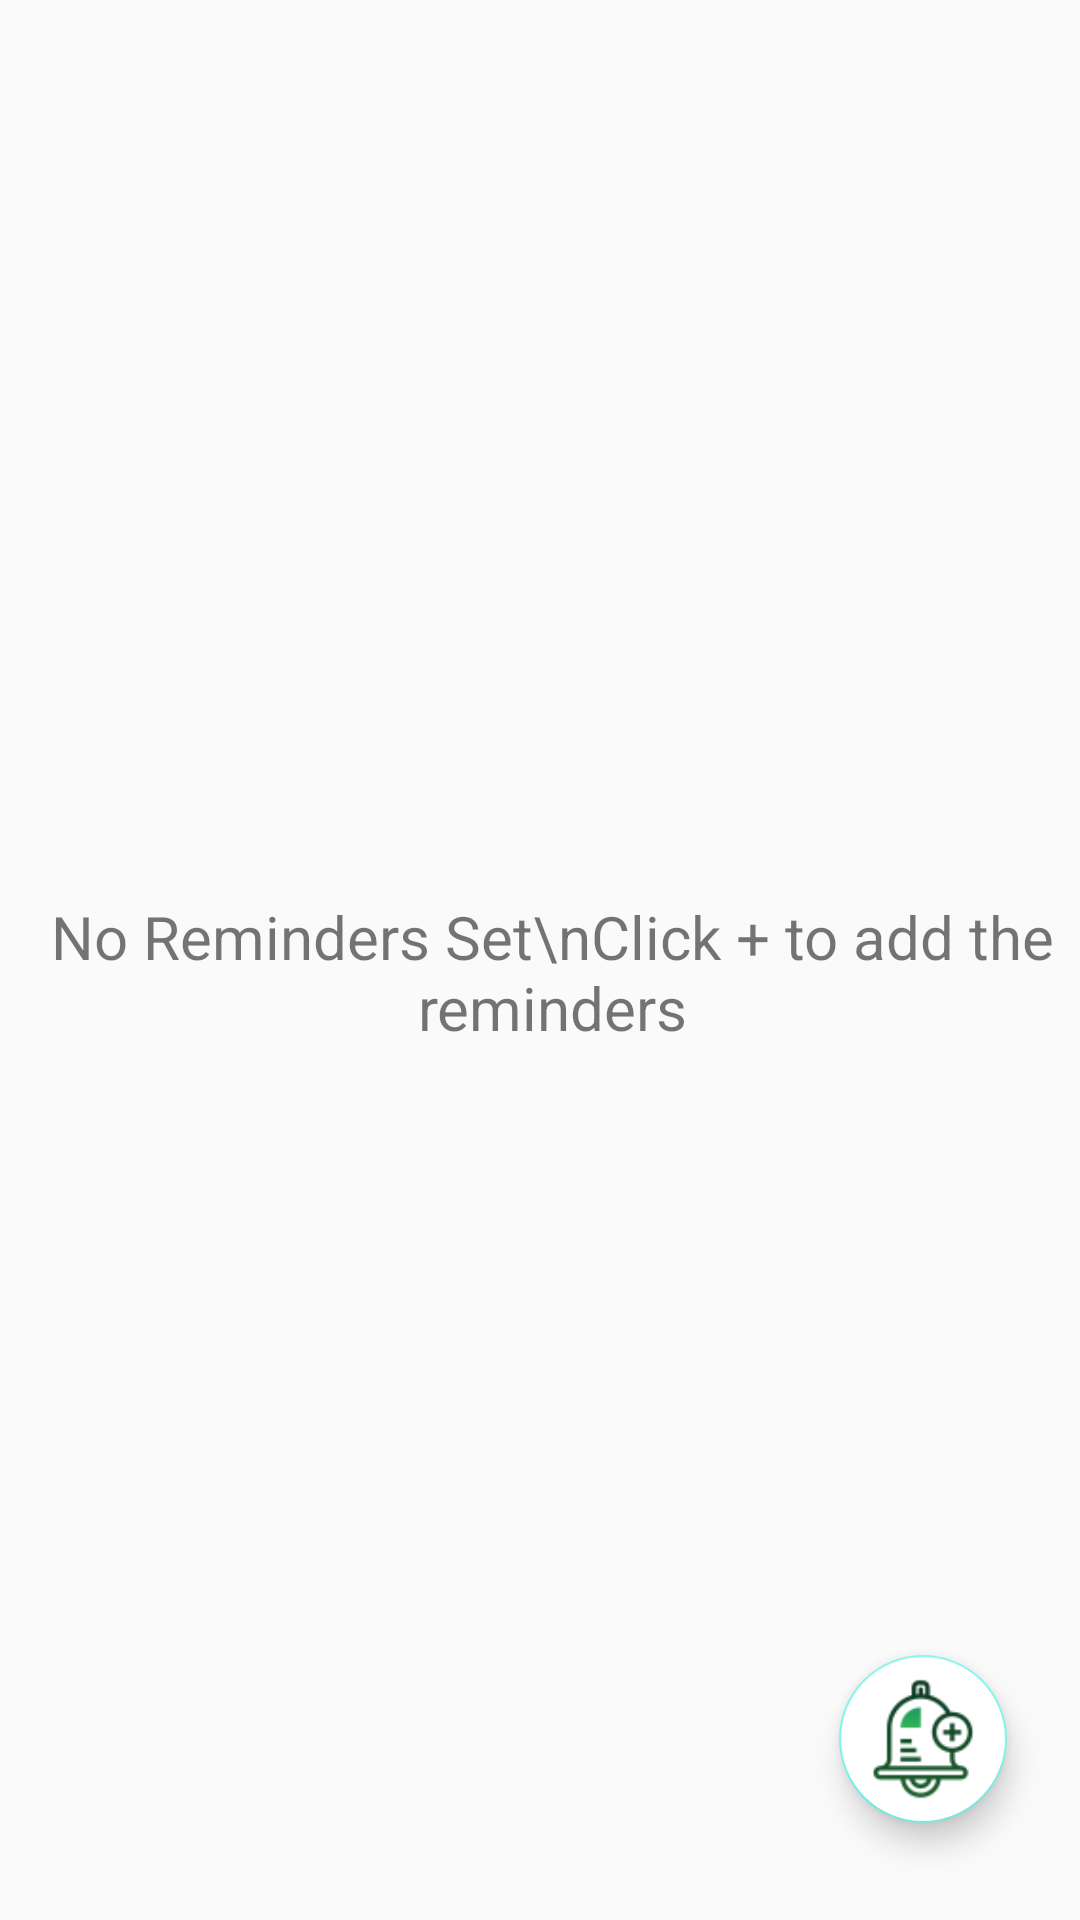

Where icons sit on this 1080×1920 app screen, as (x1, y1, x2, y2):
add reminder: (873, 1680, 973, 1798)
